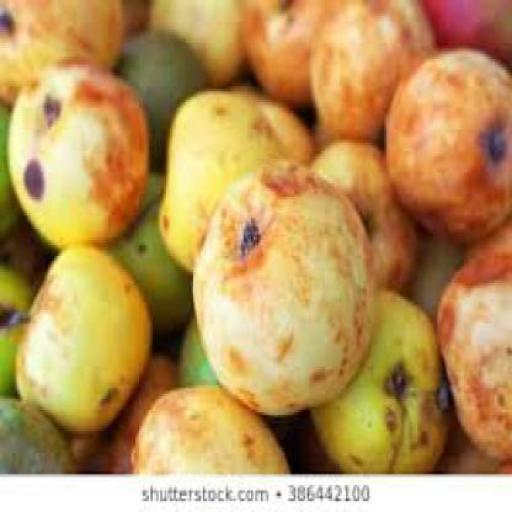biodegradable: (0, 0, 511, 473), (191, 159, 373, 415), (4, 54, 149, 248), (7, 242, 149, 434), (305, 288, 447, 471), (382, 43, 510, 243), (157, 86, 287, 270), (302, 137, 420, 294), (306, 0, 435, 135), (435, 232, 510, 461), (178, 305, 296, 445), (127, 377, 290, 472), (103, 167, 191, 334), (68, 350, 176, 472), (0, 0, 122, 102), (116, 32, 206, 165), (241, 0, 325, 102), (147, 0, 246, 84), (226, 81, 313, 170), (419, 0, 510, 73), (0, 393, 81, 470), (0, 256, 31, 401), (430, 417, 510, 469), (0, 100, 16, 238), (119, 0, 149, 33)
